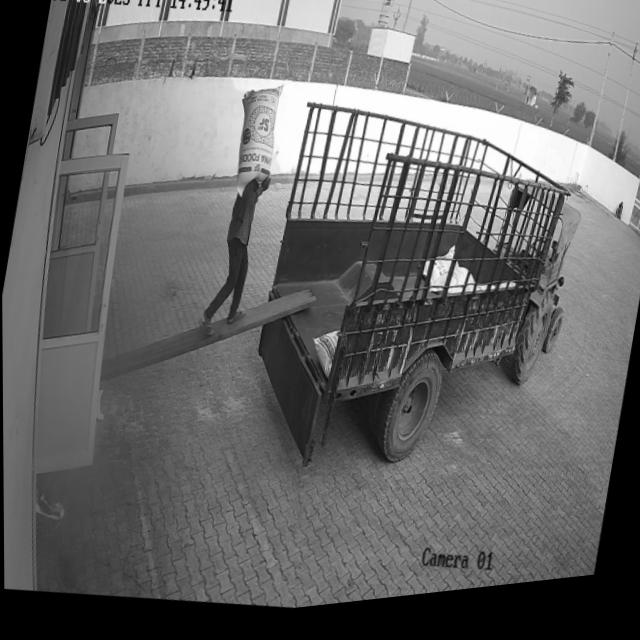sack: (225, 85, 284, 205)
